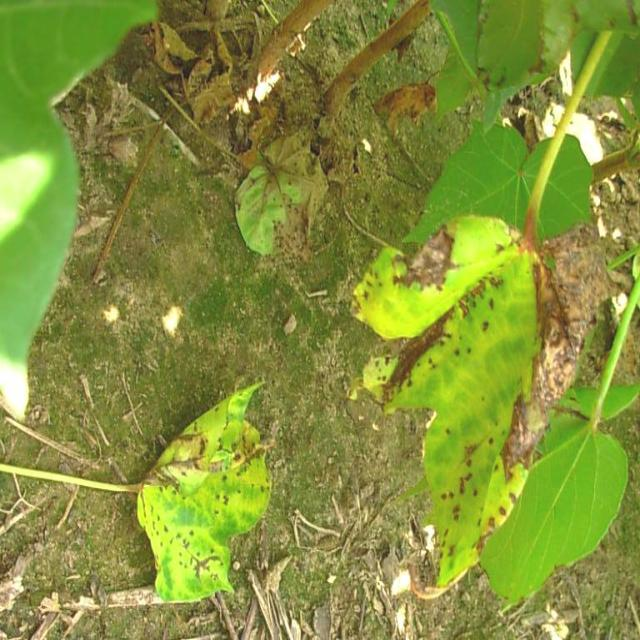Bacterial Blight: (375, 228, 527, 543)
